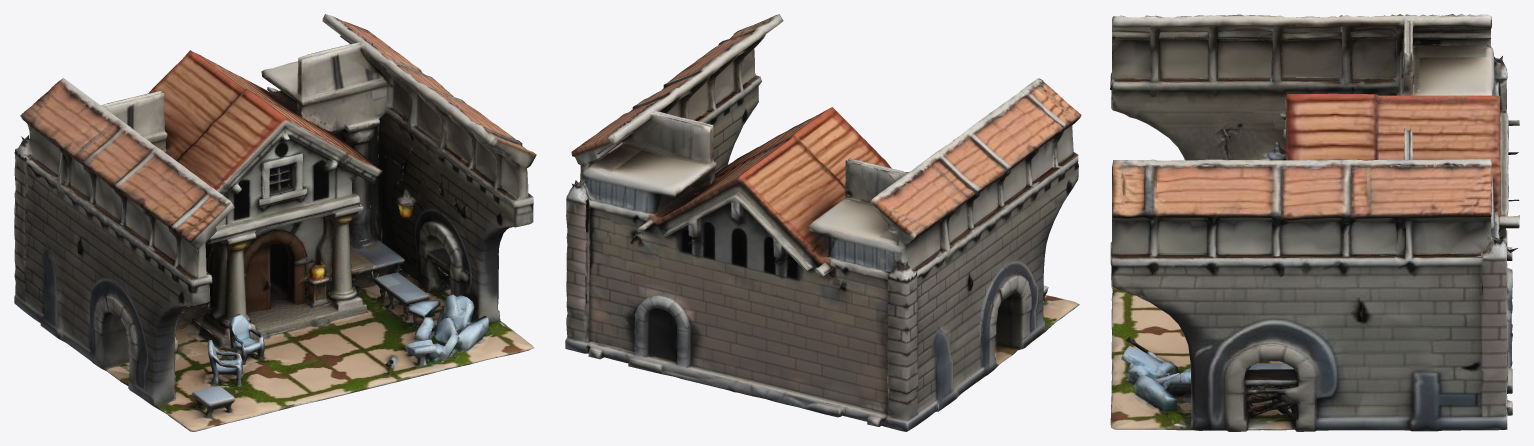
Rendered from Dwarven Building #27_final.glb.
3 views of the same model, side by side, from view 1: azimuth 30°, elevation 25°; view 2: azimuth 150°, elevation 25°; view 3: azimuth 270°, elevation 25° (orthographic). The views are drawn at different scales.
Size of the model in its own units: 1.91 by 1.15 by 1.72.
1 material, 1 textured.
